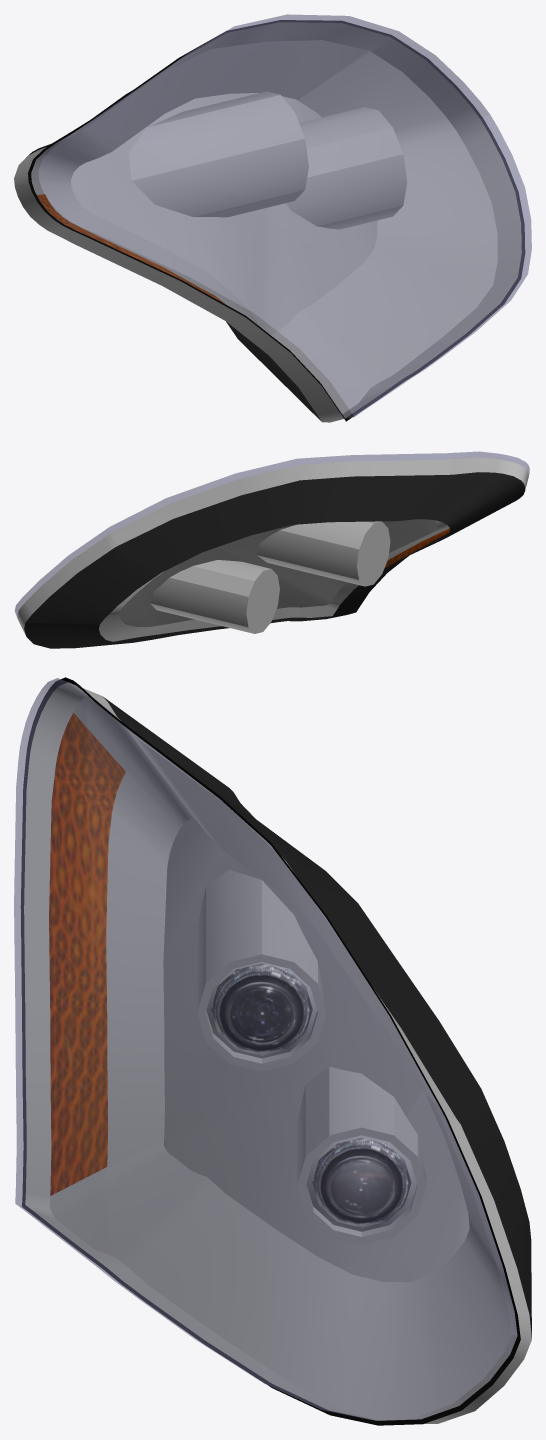
The picture shows the model from 3 angles, top to bottom: view 1: azimuth 30°, elevation 25°; view 2: azimuth 150°, elevation 25°; view 3: azimuth 270°, elevation 25°; orthographic projection. The views are drawn at different scales.
Visible parts, largest first — view 1: Z727_061B_R_1_DaS_Z727_061B_R, Z727_061B_R_Z727_061B_R_6_DTaSI, Z727_061B_R_Z727_061B_R_7_D, Z727_061B_R_Z727_061B_R_2_D, Z727_061B_R_Z727_061B_R_5_N; view 2: Z727_061B_R_1_DaS_Z727_061B_R, Z727_061B_R_Z727_061B_R_2_D, Z727_061B_R_Z727_061B_R_6_DTaSI, Z727_061B_R_Z727_061B_R_5_N; view 3: Z727_061B_R_Z727_061B_R_6_DTaSI, Z727_061B_R_1_DaS_Z727_061B_R, Z727_061B_R_Z727_061B_R_5_N, Z727_061B_R_Z727_061B_R_2_D, Z727_061B_R_Z727_061B_R_3_N, Z727_061B_R_Z727_061B_R_4_N, Z727_061B_R_Z727_061B_R_7_D.
Part boxes in pixels (x1,y1,x2,y2): Z727_061B_R_1_DaS_Z727_061B_R: (14,22,521,422); Z727_061B_R_Z727_061B_R_6_DTaSI: (31,14,531,418); Z727_061B_R_Z727_061B_R_7_D: (28,20,524,421); Z727_061B_R_Z727_061B_R_2_D: (26,91,321,421); Z727_061B_R_Z727_061B_R_5_N: (37,194,225,304); Z727_061B_R_1_DaS_Z727_061B_R: (17,457,528,641); Z727_061B_R_Z727_061B_R_2_D: (24,472,525,648); Z727_061B_R_Z727_061B_R_6_DTaSI: (15,451,529,620); Z727_061B_R_Z727_061B_R_5_N: (384,528,450,567); Z727_061B_R_Z727_061B_R_6_DTaSI: (14,678,517,1420); Z727_061B_R_1_DaS_Z727_061B_R: (24,682,531,1423); Z727_061B_R_Z727_061B_R_5_N: (49,713,125,1195); Z727_061B_R_Z727_061B_R_2_D: (103,697,531,1337); Z727_061B_R_Z727_061B_R_3_N: (211,963,312,1055); Z727_061B_R_Z727_061B_R_4_N: (312,1138,411,1227); Z727_061B_R_Z727_061B_R_7_D: (21,677,520,1425).
Bounding box in the file's own units: 53.96 × 28.22 × 31.41.
